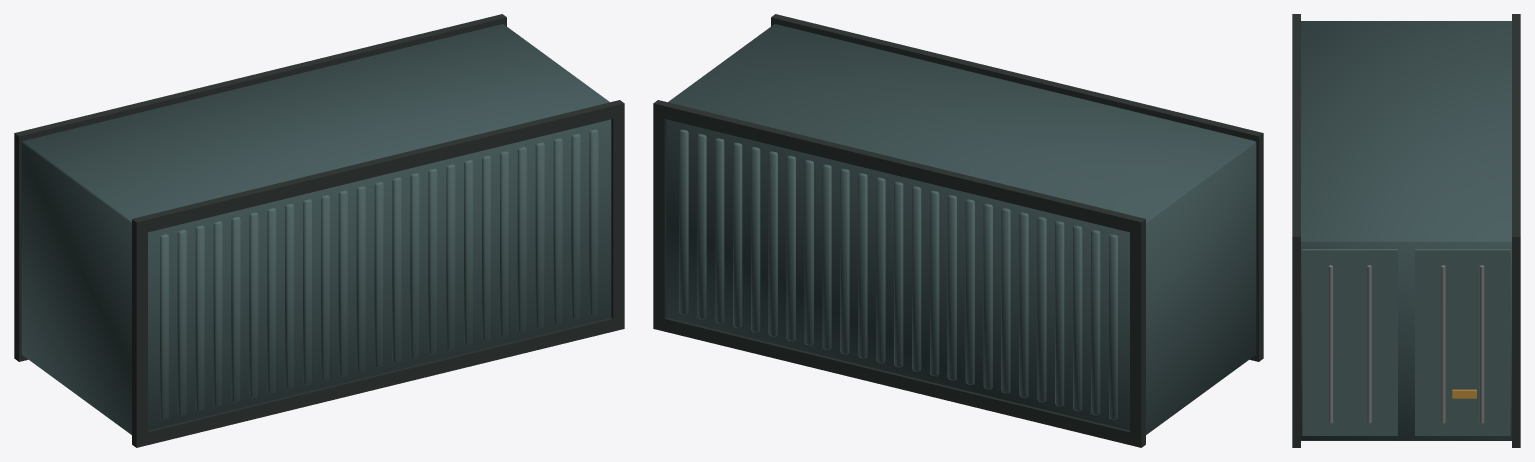
The model's file is freightContainer.glb.
3 renders of one model, left to right at view 1: azimuth 30°, elevation 25°; view 2: azimuth 150°, elevation 25°; view 3: azimuth 270°, elevation 25°, orthographic. The views are drawn at different scales.
Parts seen in each view (by area): view 1: SM_freightContainer; view 2: SM_freightContainer; view 3: SM_freightContainer.
Part boxes in pixels (<box>): SM_freightContainer: <box>14,14,624,447</box>; SM_freightContainer: <box>653,14,1263,447</box>; SM_freightContainer: <box>1292,14,1520,447</box>.
Bounding box in the file's own units: 6.07 × 2.65 × 2.6.
